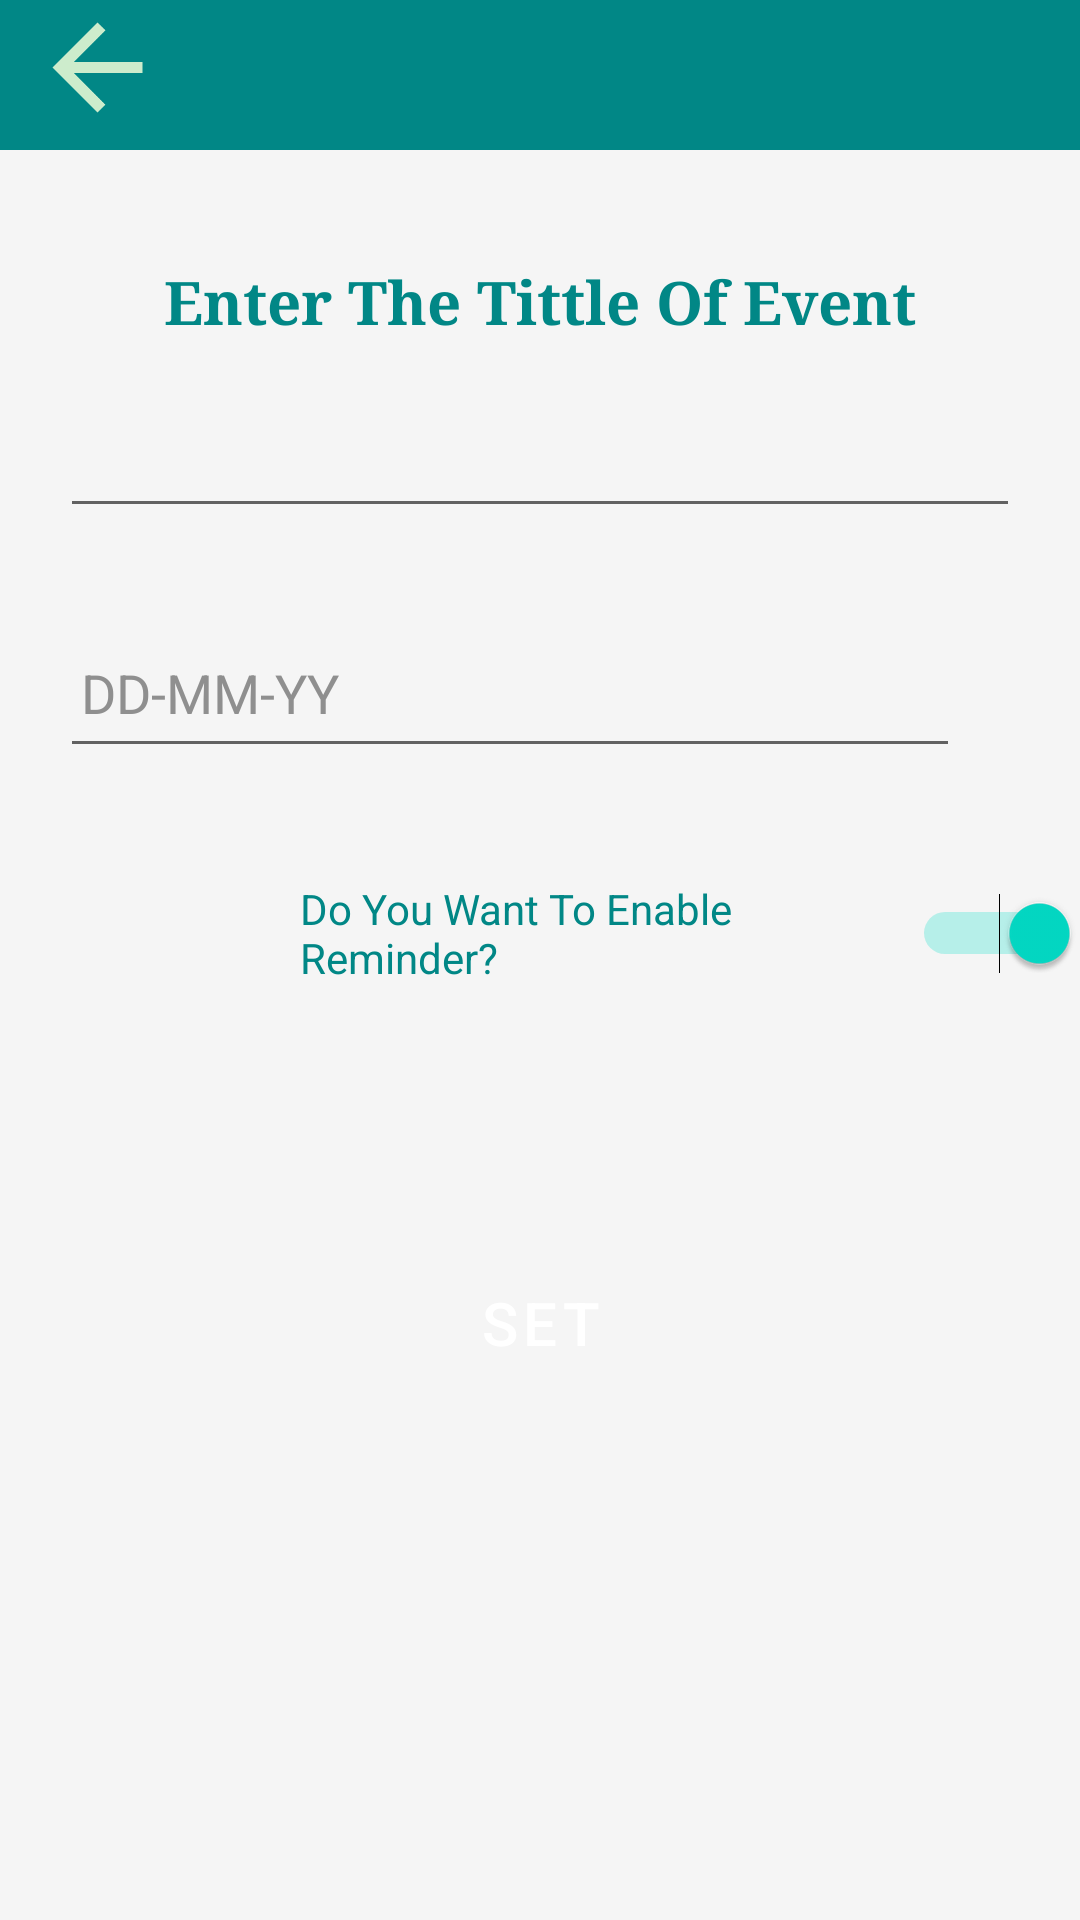

Icons on this 1080px x 1920px Android screen, each with its box as (x1=x1, y1=y1, x2=x2, y2=y2):
backbutton: (x1=52, y1=22, x2=143, y2=113)
